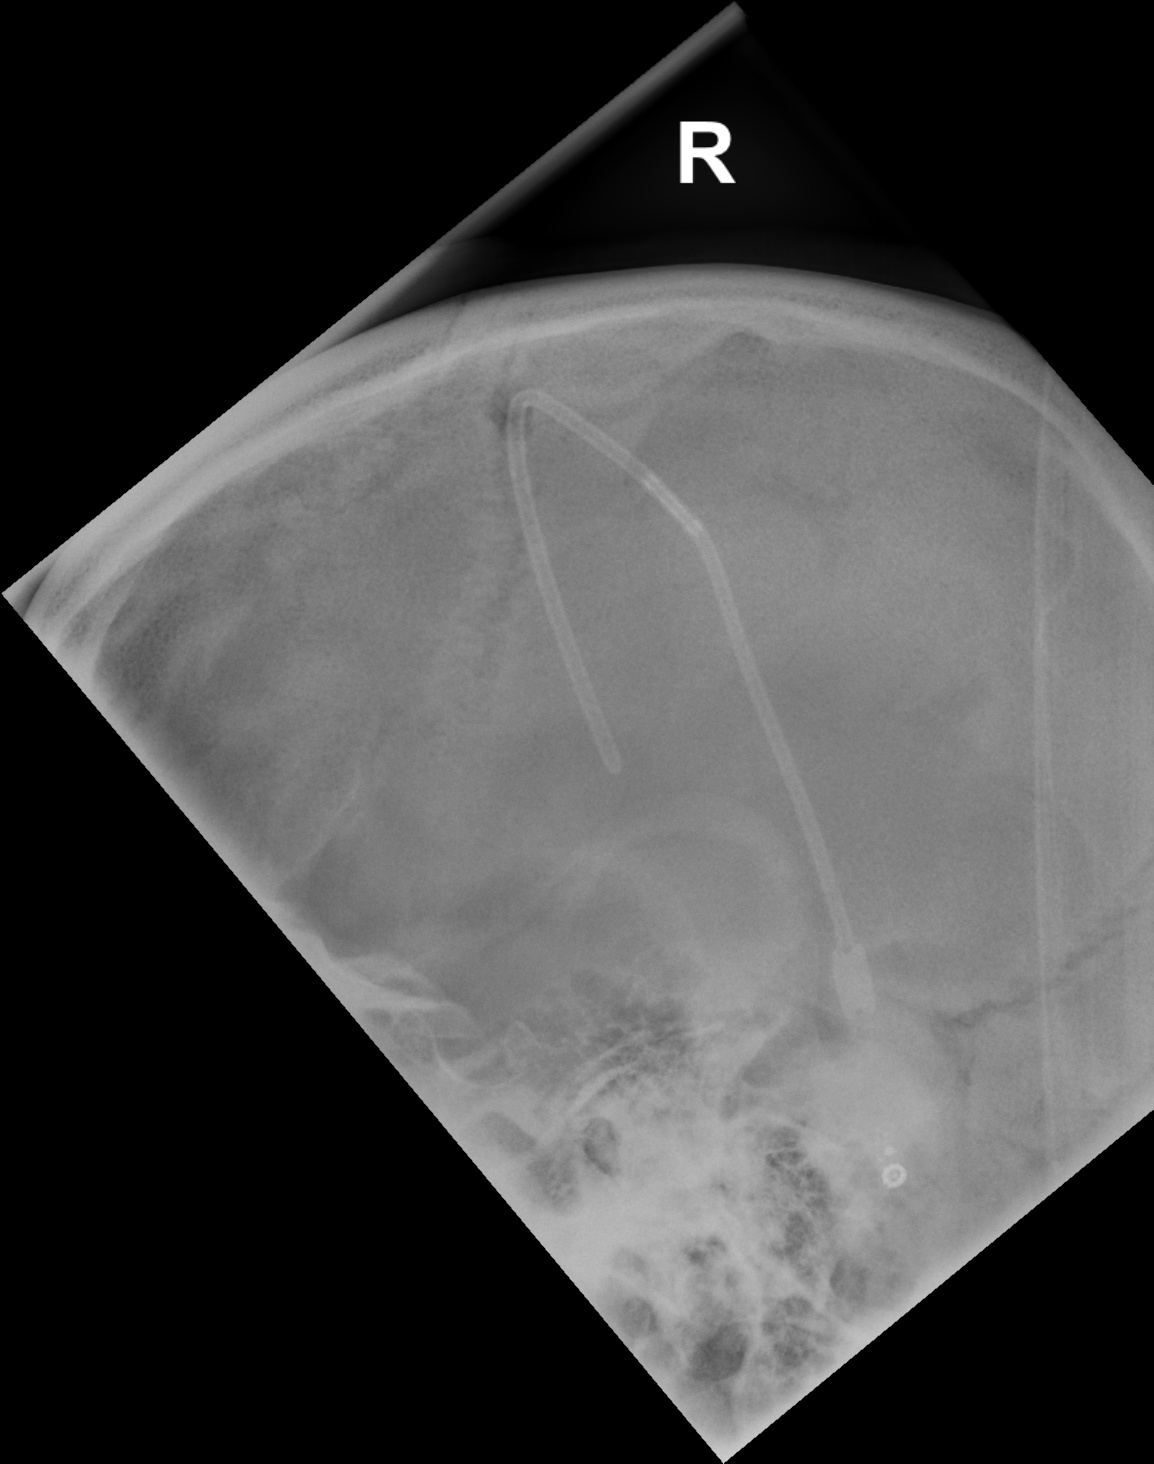Codman Hakim: (865, 1134, 917, 1204)
